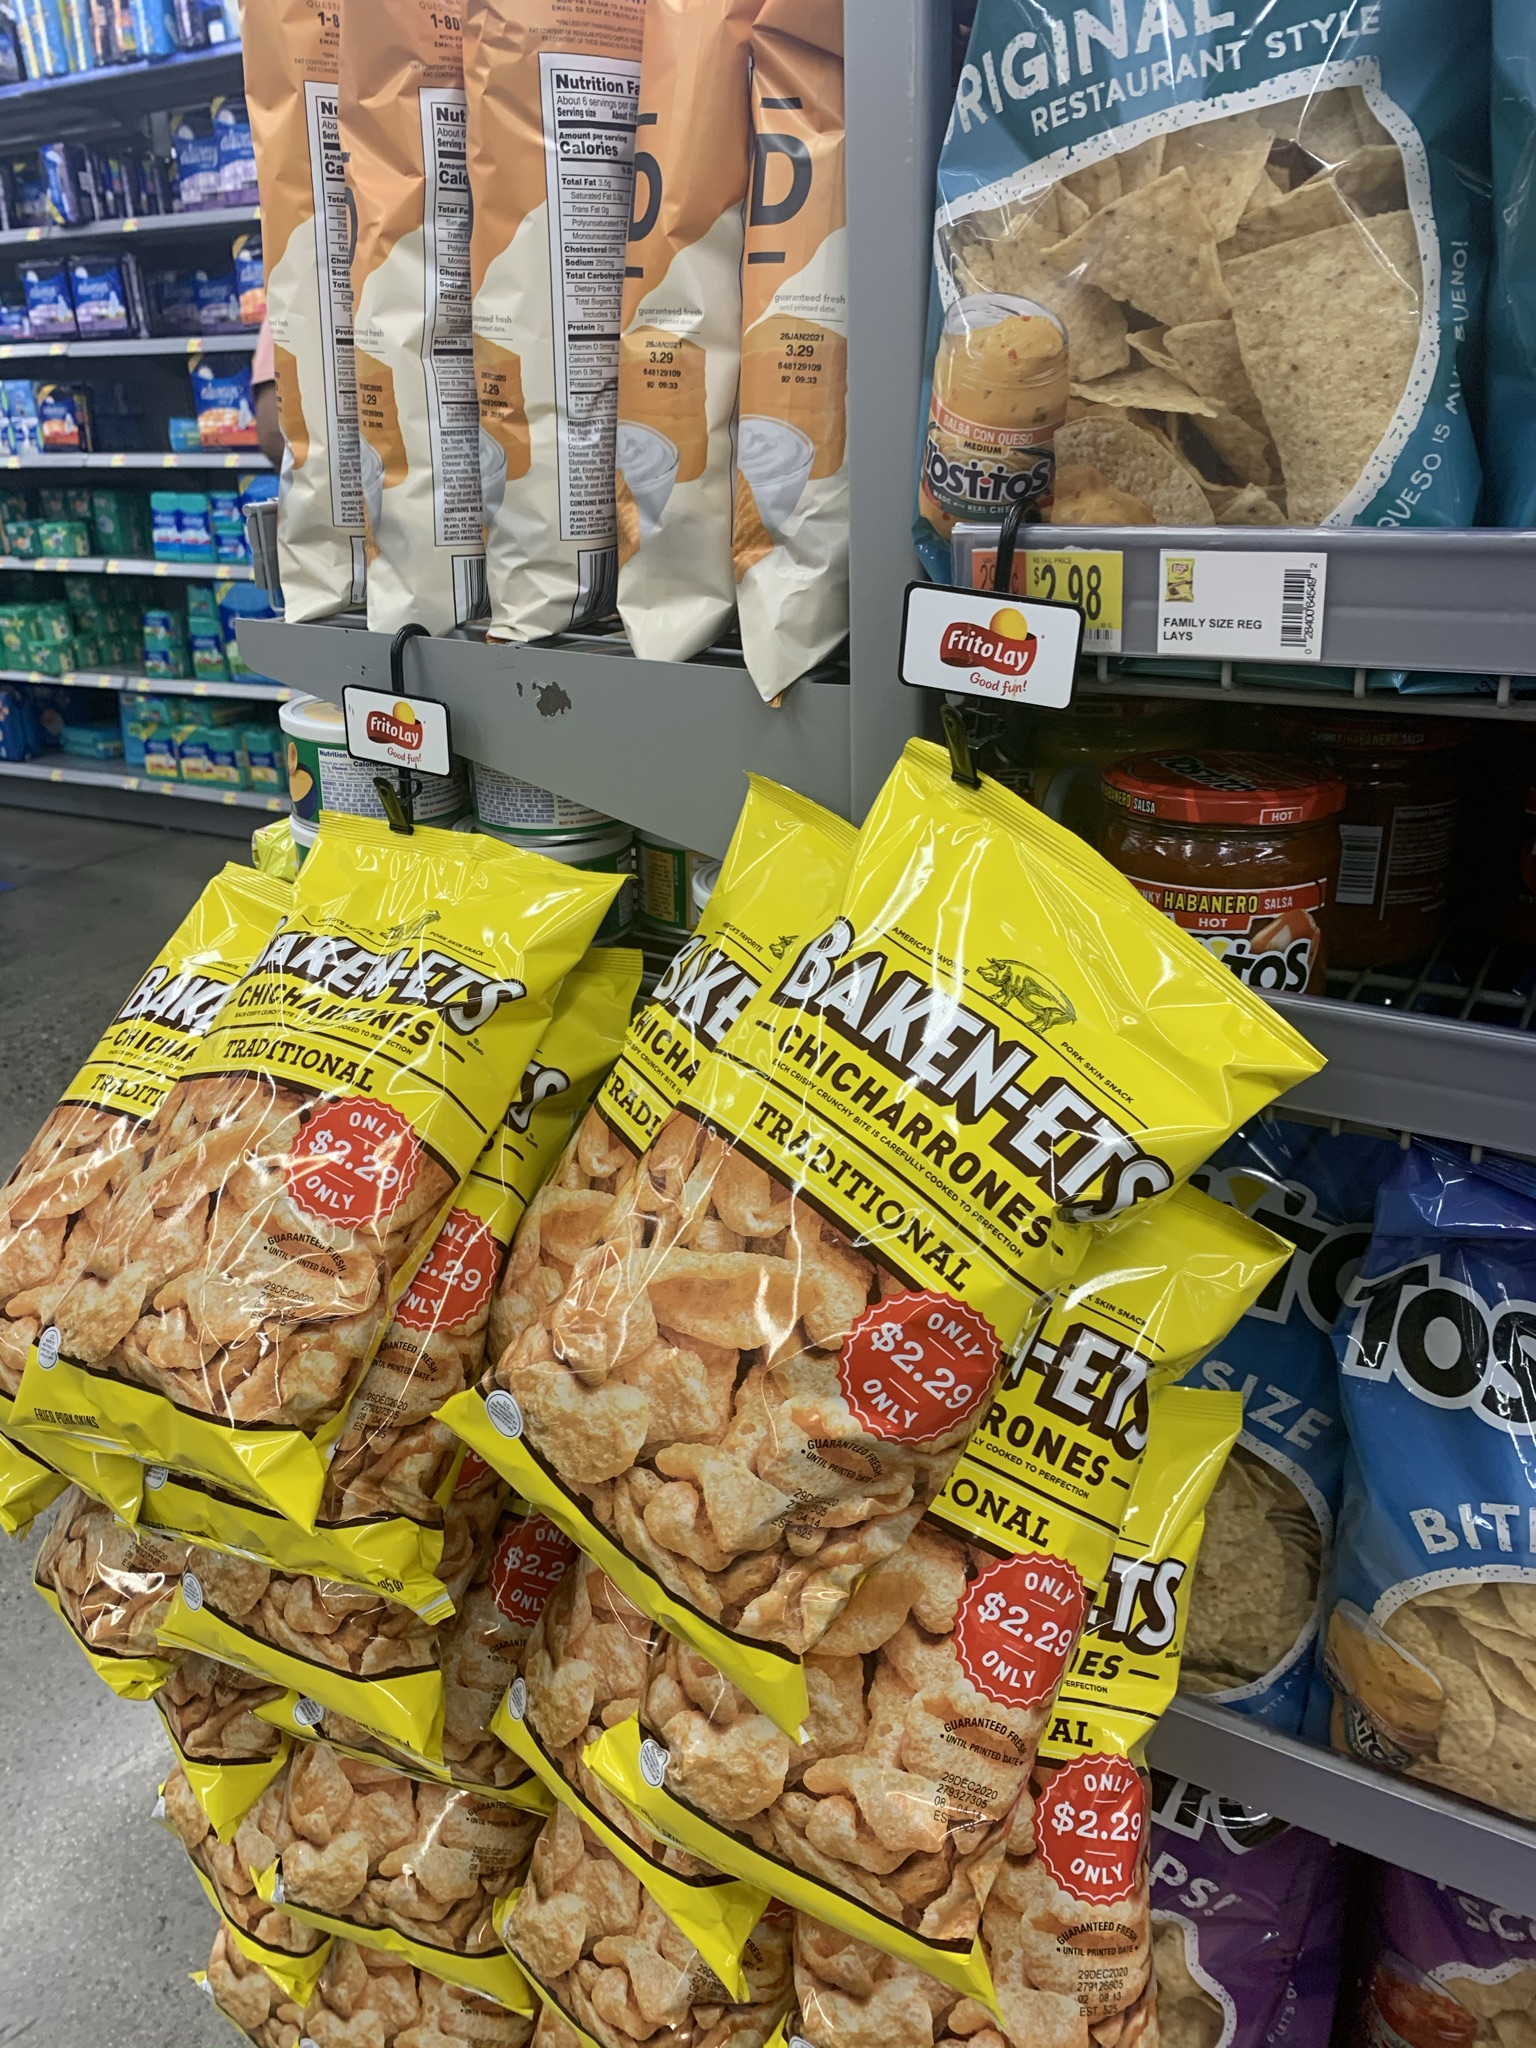Chips: (936, 2, 1473, 516)
